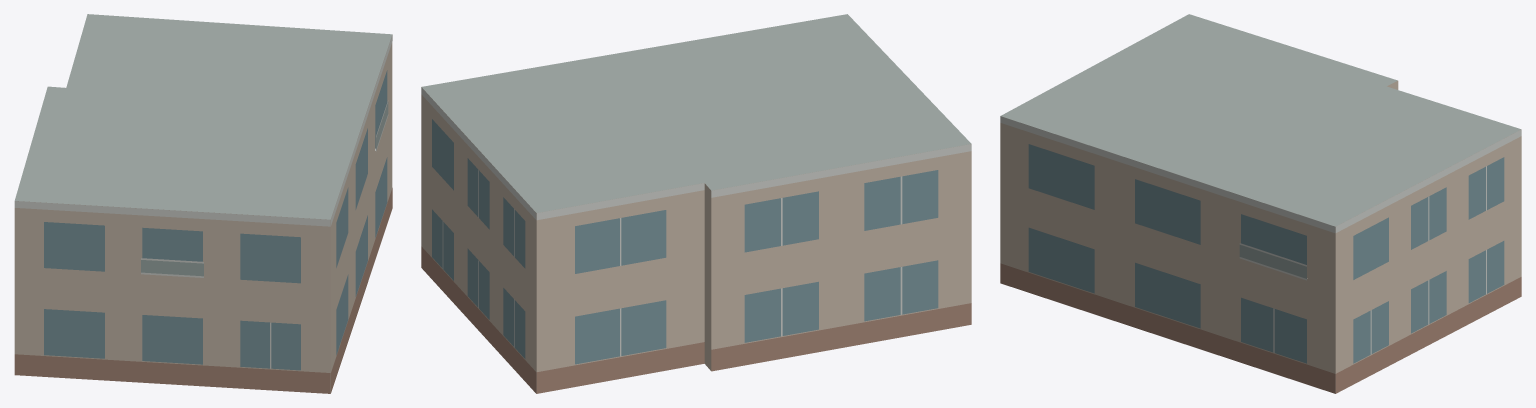
File: survey-upis-32890908.glb
3 renders of one model, left to right at view 1: azimuth 30°, elevation 25°; view 2: azimuth 150°, elevation 25°; view 3: azimuth 270°, elevation 25°, orthographic. The views are drawn at different scales.
Parts seen in each view (by area): view 1: survey-upis-32890908.tmp; view 2: survey-upis-32890908.tmp; view 3: survey-upis-32890908.tmp.
Part boxes in pixels (left/top/right/bottom): survey-upis-32890908.tmp: left=14, top=14, right=392, bottom=393; survey-upis-32890908.tmp: left=421, top=14, right=971, bottom=393; survey-upis-32890908.tmp: left=1000, top=14, right=1521, bottom=393.
Bounding box in the file's own units: 16.65 × 6.1 × 17.24.
